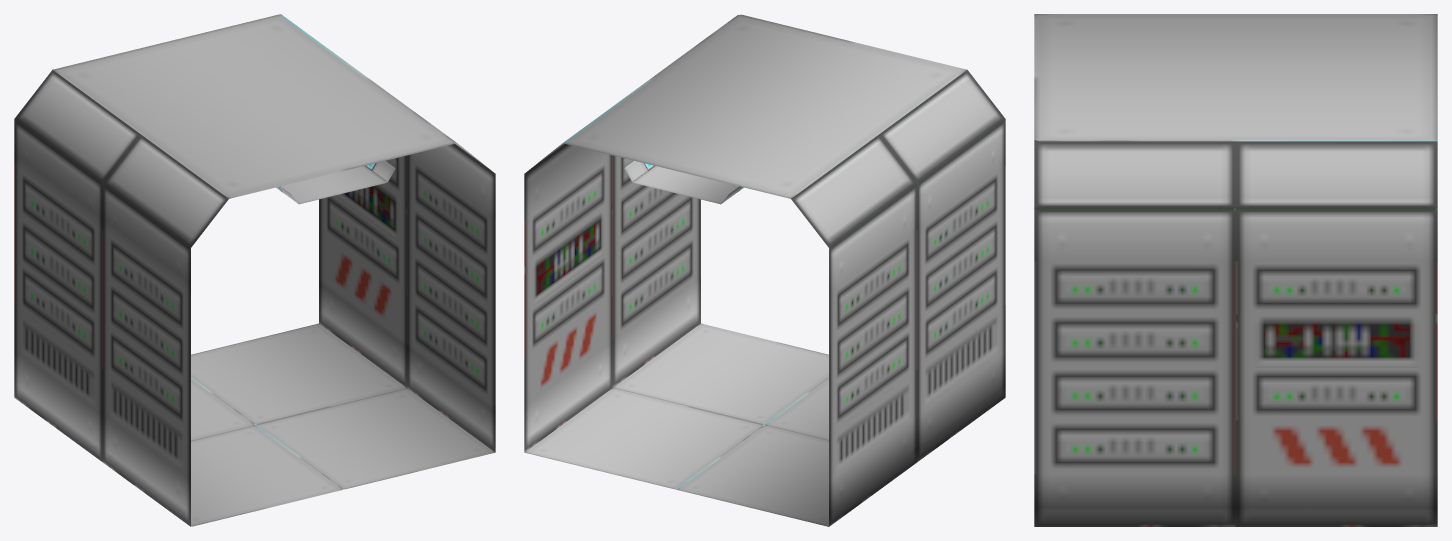
The model's file is corr_4.fbx.
3 views of the same model, side by side, from view 1: azimuth 30°, elevation 25°; view 2: azimuth 150°, elevation 25°; view 3: azimuth 270°, elevation 25° (orthographic). The views are drawn at different scales.
Visible parts, largest first — view 1: Cube_042; view 2: Cube_042; view 3: Cube_042.
Part boxes in pixels (x1,y1,x2,y2): Cube_042: (14, 14, 495, 526); Cube_042: (524, 14, 1005, 526); Cube_042: (1034, 14, 1437, 526).
Bounding box in the file's own units: 8 × 8 × 8.03.
